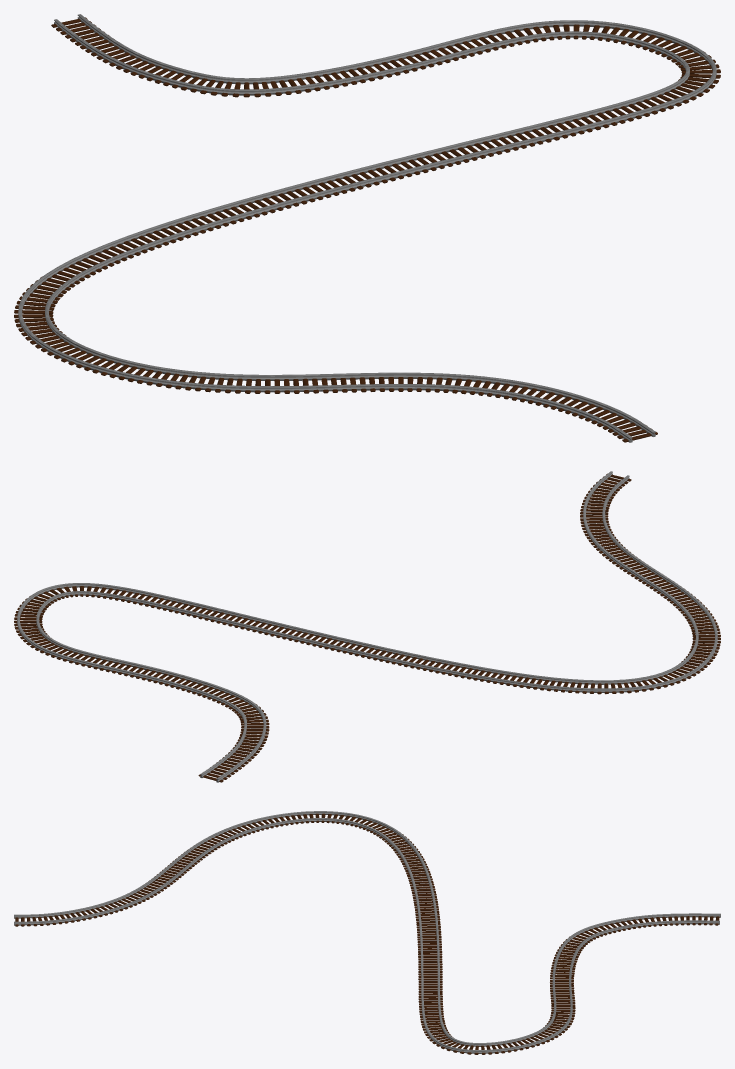
Rendered from RAILS_lvl1Test.fbx.
3 renders of one model, top to bottom at view 1: azimuth 30°, elevation 25°; view 2: azimuth 150°, elevation 25°; view 3: azimuth 270°, elevation 25°, orthographic. The views are drawn at different scales.
Visible parts, largest first — view 1: railStright; view 2: railStright; view 3: railStright.
Part boxes in pixels (box(x1,y1,x2,y2)): railStright: box(14, 14, 720, 442); railStright: box(14, 471, 720, 782); railStright: box(14, 811, 720, 1054).
Size of the model in its own units: 17.06 by 0.1023 by 21.05.
